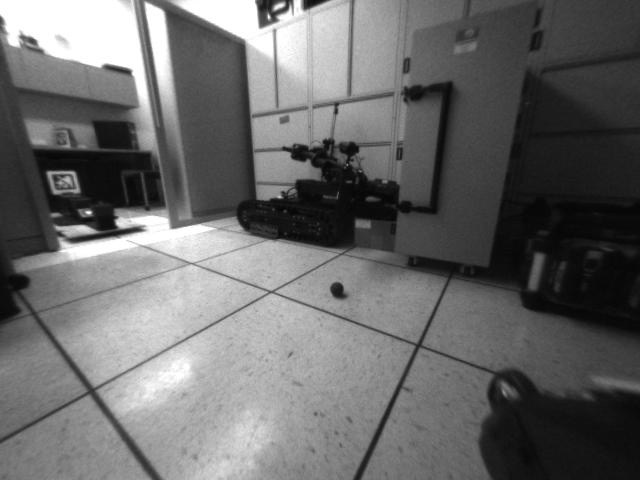dogtoy: (323, 276, 356, 300)
